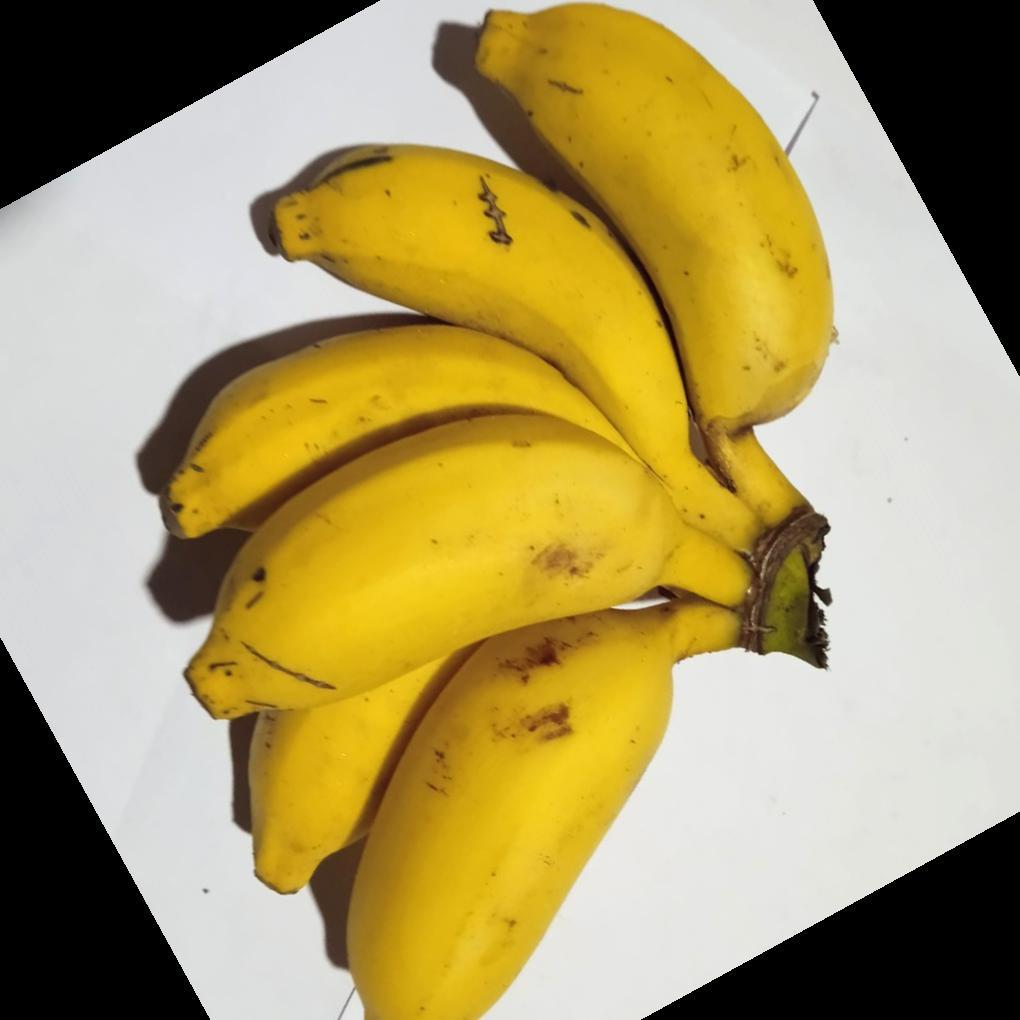Banana Ripe: (238, 106, 804, 741), (213, 583, 922, 1020), (139, 330, 806, 726), (479, 3, 892, 584)
